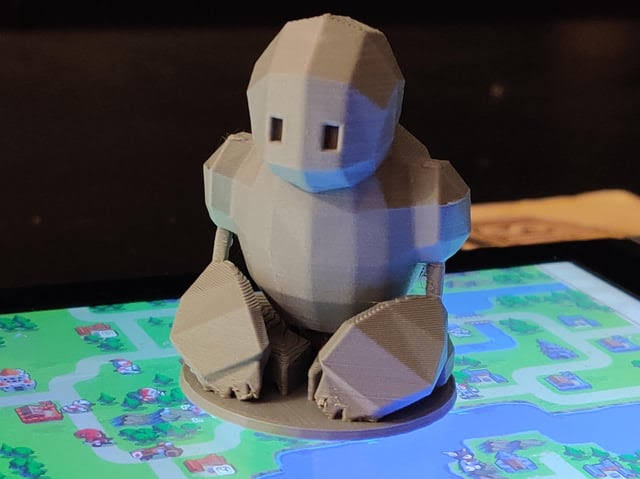3d print: (171, 15, 469, 432)
